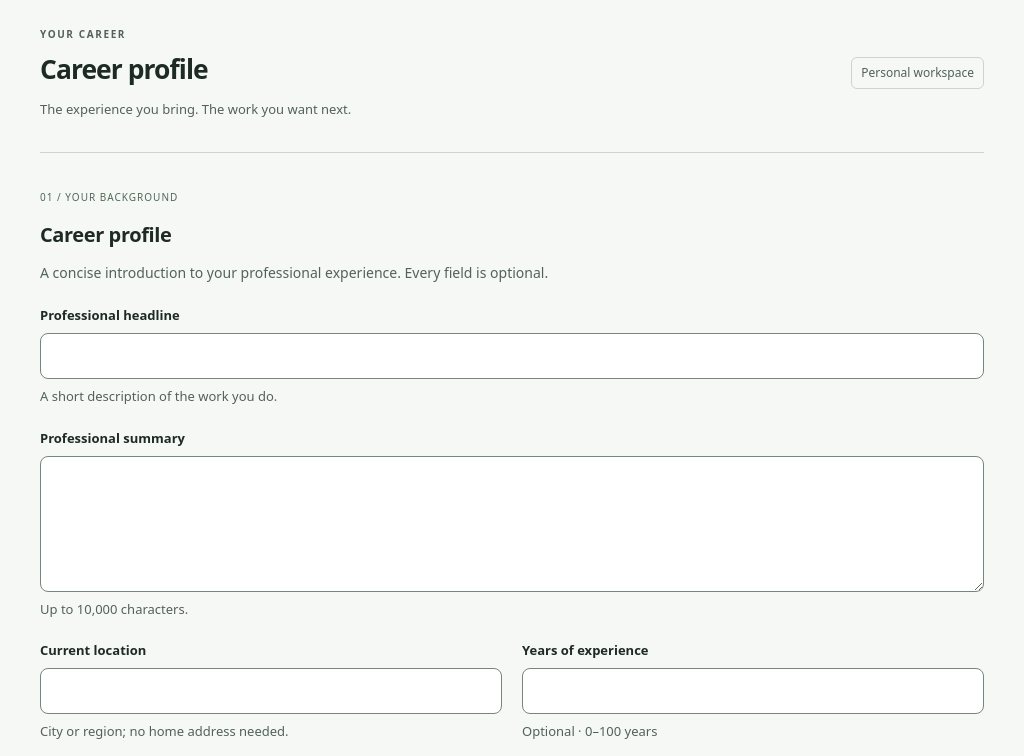
Test case: discards unsaved edits without making a mutation
The width and height of the screenshot is (1024, 756).
Type "Unsaved" into the field labelled "Professional headline" at (512, 356), box [40, 333, 984, 380]
(page scrolled)
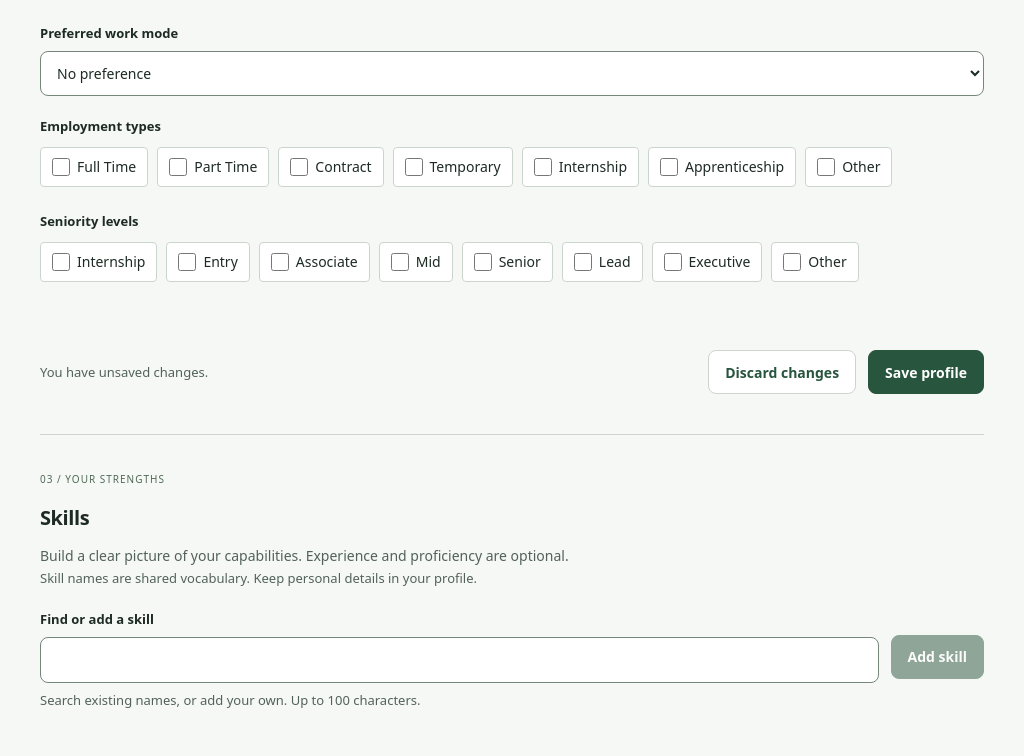
Click the button "Discard changes" at (782, 372), box [708, 350, 856, 394]
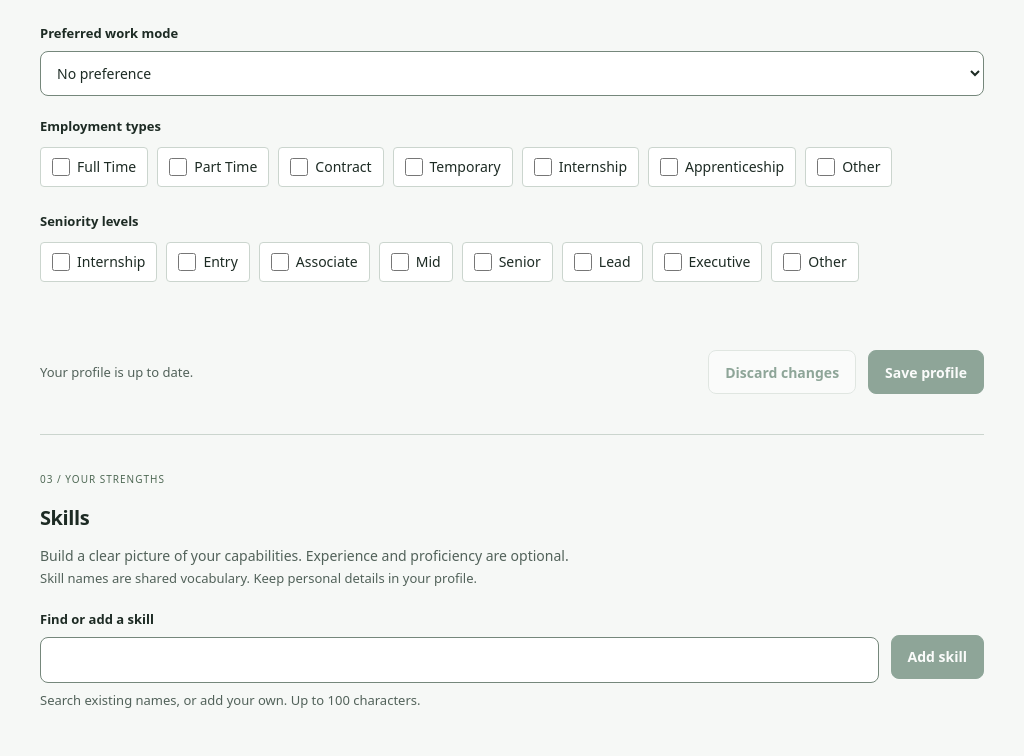
Expected: the button "Save profile" is disabled, [868, 350, 984, 394]
